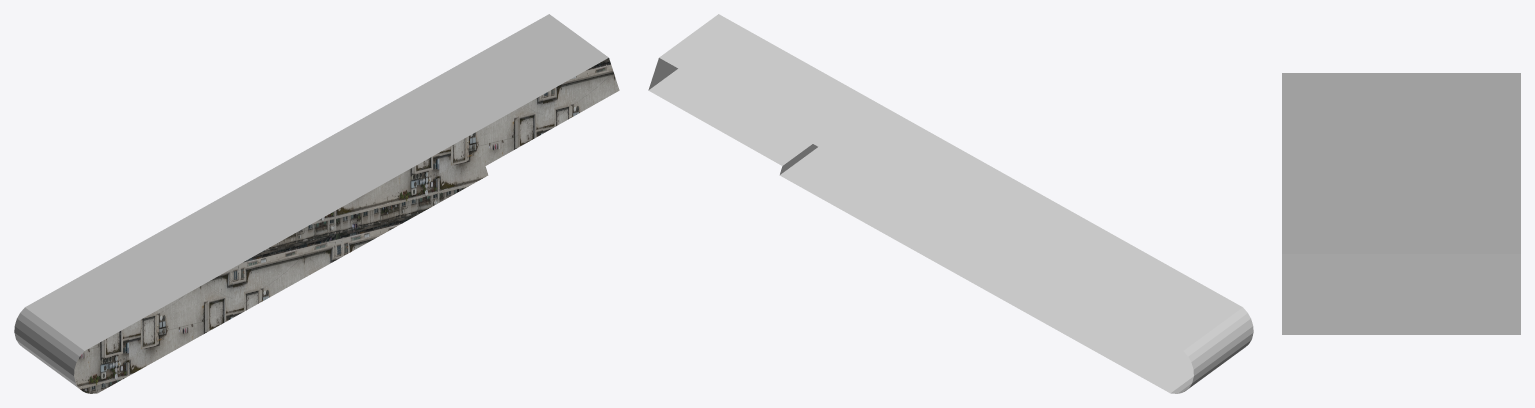
File: geospecific_2111.obj
The picture shows the model from 3 angles, left to right: view 1: azimuth 30°, elevation 25°; view 2: azimuth 150°, elevation 25°; view 3: azimuth 270°, elevation 25°; orthographic projection. The views are drawn at different scales.
Parts seen in each view (by area): view 1: Building; view 2: Building; view 3: Building.
Boxes of the visible parts, x1=… form: Building: x1=14, y1=14, x2=619, y2=393; Building: x1=648, y1=14, x2=1253, y2=393; Building: x1=1282, y1=73, x2=1520, y2=334.
Bounding box in the file's own units: 63.3 × 23.39 × 12.
